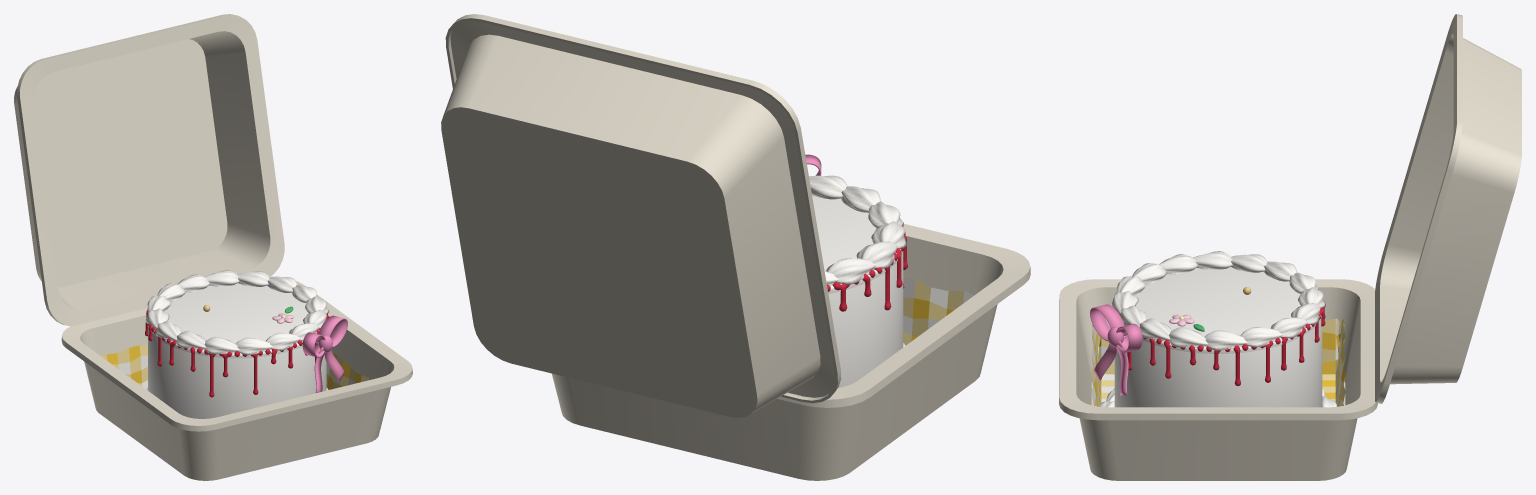
Rendered from bento.glb.
3 views of the same model, side by side, from view 1: azimuth 30°, elevation 25°; view 2: azimuth 150°, elevation 25°; view 3: azimuth 270°, elevation 25° (orthographic). The views are drawn at different scales.
Visible parts, largest first — view 1: box_clamshell, cake, top_frosting, border_top_shell, gingham_paper, bow, drip; view 2: box_clamshell, cake, border_top_shell, top_frosting, gingham_paper, drip; view 3: box_clamshell, cake, top_frosting, border_top_shell, gingham_paper, bow, drip.
Part boxes in pixels (bbox=[...]): box_clamshell: bbox=[14, 14, 412, 480]; cake: bbox=[148, 327, 326, 418]; top_frosting: bbox=[148, 283, 319, 358]; border_top_shell: bbox=[145, 270, 329, 355]; gingham_paper: bbox=[99, 345, 370, 389]; bow: bbox=[302, 315, 347, 392]; drip: bbox=[145, 309, 328, 397]; box_clamshell: bbox=[441, 14, 1030, 480]; cake: bbox=[828, 251, 903, 387]; border_top_shell: bbox=[809, 175, 906, 285]; top_frosting: bbox=[812, 195, 902, 294]; gingham_paper: bbox=[903, 277, 973, 345]; drip: bbox=[827, 225, 907, 311]; box_clamshell: bbox=[1059, 14, 1521, 480]; cake: bbox=[1114, 318, 1322, 407]; top_frosting: bbox=[1135, 267, 1321, 353]; border_top_shell: bbox=[1111, 251, 1325, 350]; gingham_paper: bbox=[1091, 318, 1345, 406]; bow: bbox=[1090, 304, 1142, 395]; drip: bbox=[1116, 307, 1325, 385].
Bounding box in the file's own units: 0.1562 × 0.1933 × 0.2267.
